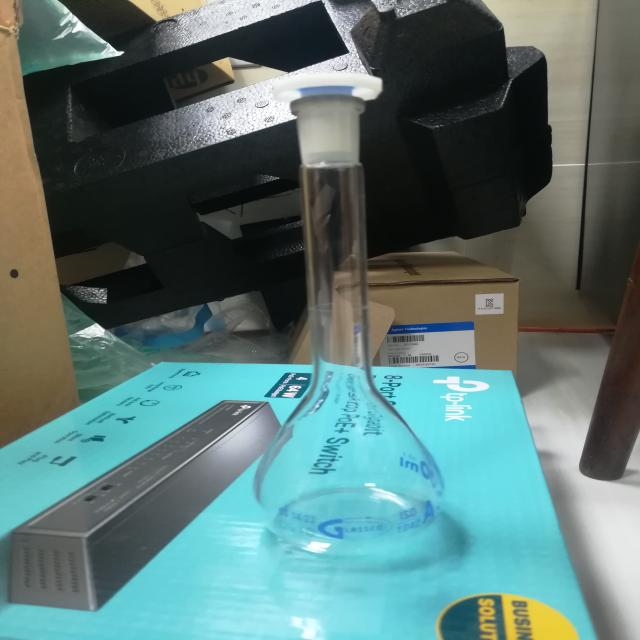Volumetric_Flask: (211, 47, 487, 595)
